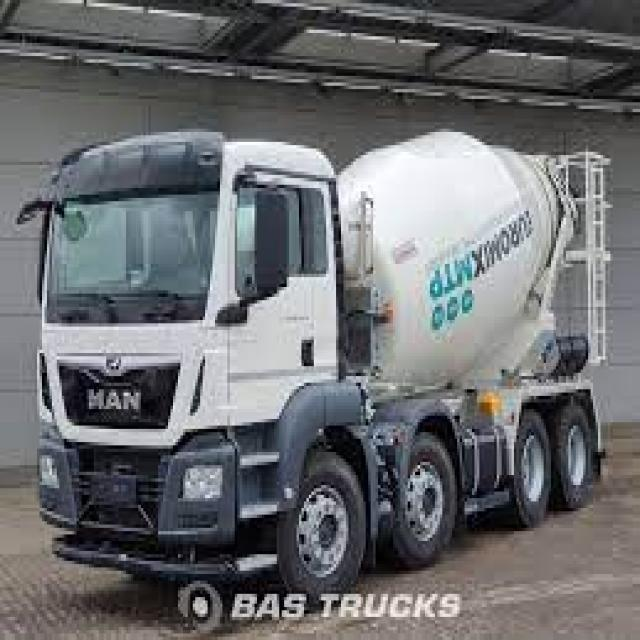Mixer Truck: (11, 122, 616, 614)
